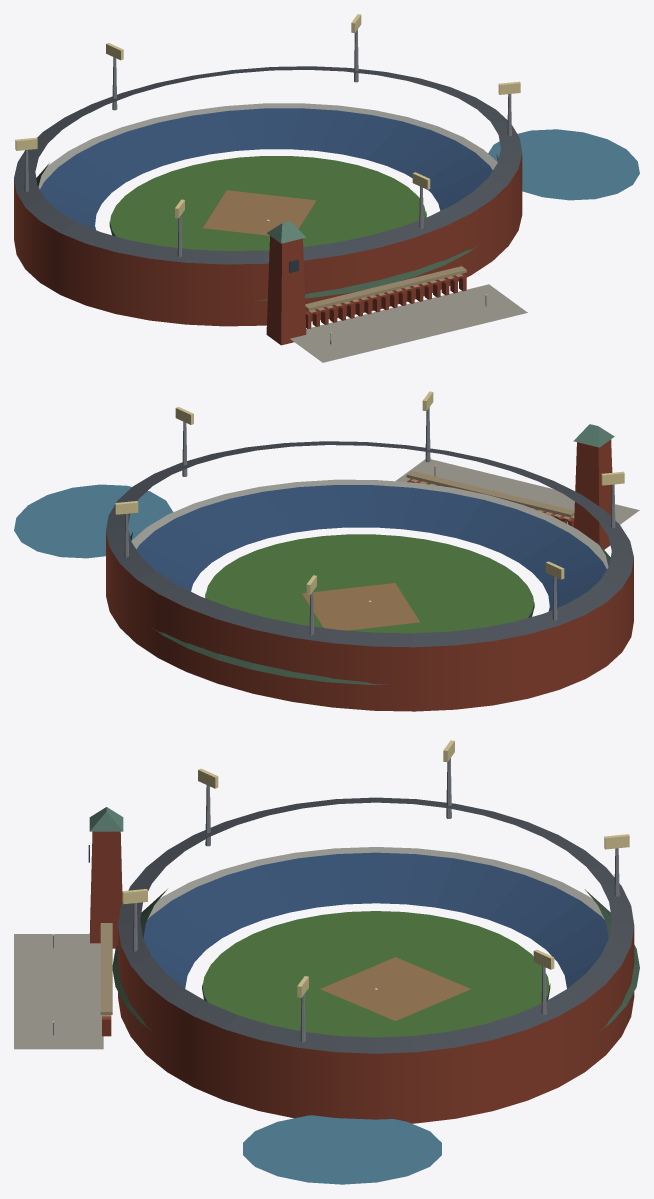
File: desktop.glb
3 renders of one model, top to bottom at view 1: azimuth 30°, elevation 25°; view 2: azimuth 150°, elevation 25°; view 3: azimuth 270°, elevation 25°, orthographic. The views are drawn at different scales.
Parts seen in each view (by area): view 1: lm.china-basin-ballpark; view 2: lm.china-basin-ballpark; view 3: lm.china-basin-ballpark.
Part boxes in pixels (bbox=[...]): lm.china-basin-ballpark: bbox=[14, 14, 639, 362]; lm.china-basin-ballpark: bbox=[14, 391, 639, 711]; lm.china-basin-ballpark: bbox=[14, 740, 639, 1184].
Bounding box in the file's own units: 271 × 52.4 × 223.
